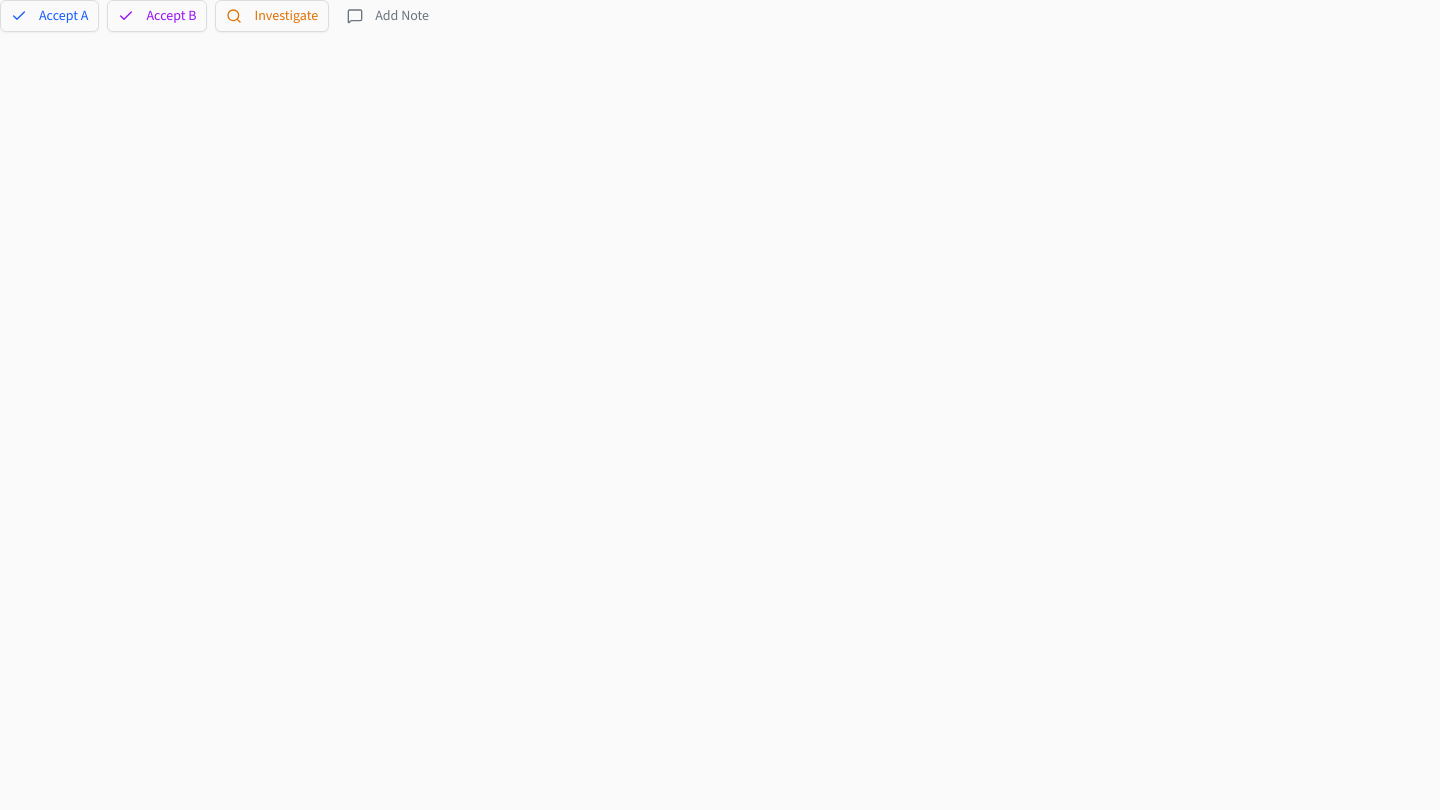
Scenario: ContradictionActions › Investigate Action (AC6) › closes dialog after successful submission
The image size is (1440, 810).
Open dialog
Click the button with aria-label "mark for investigation".
click(272, 16)  # box top-left (216, 0), bottom-right (329, 32)
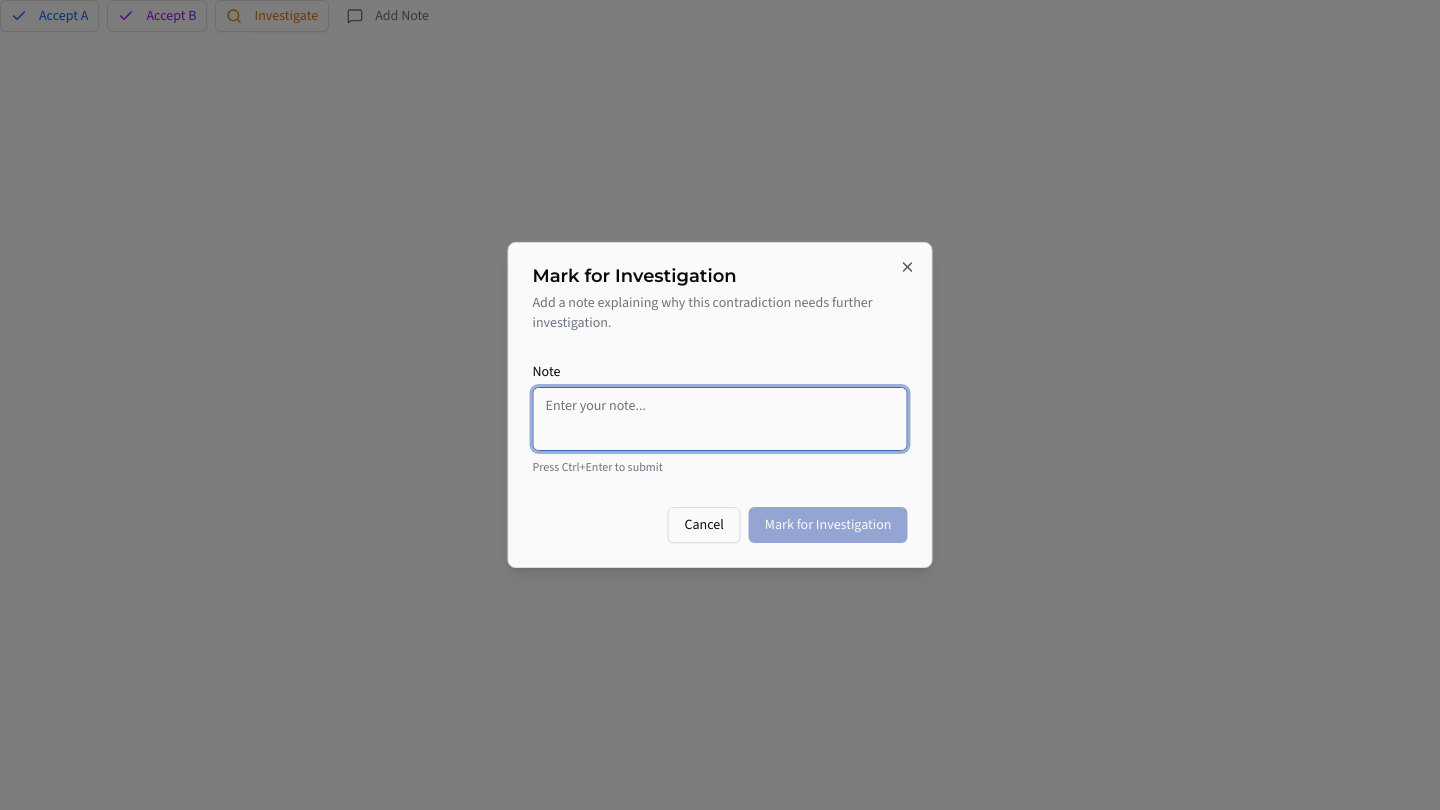
Type note and submit
Type "Test note" into the text box with placeholder "Enter your note...".
click(720, 419); type("Test note")  # box top-left (532, 387), bottom-right (908, 451)
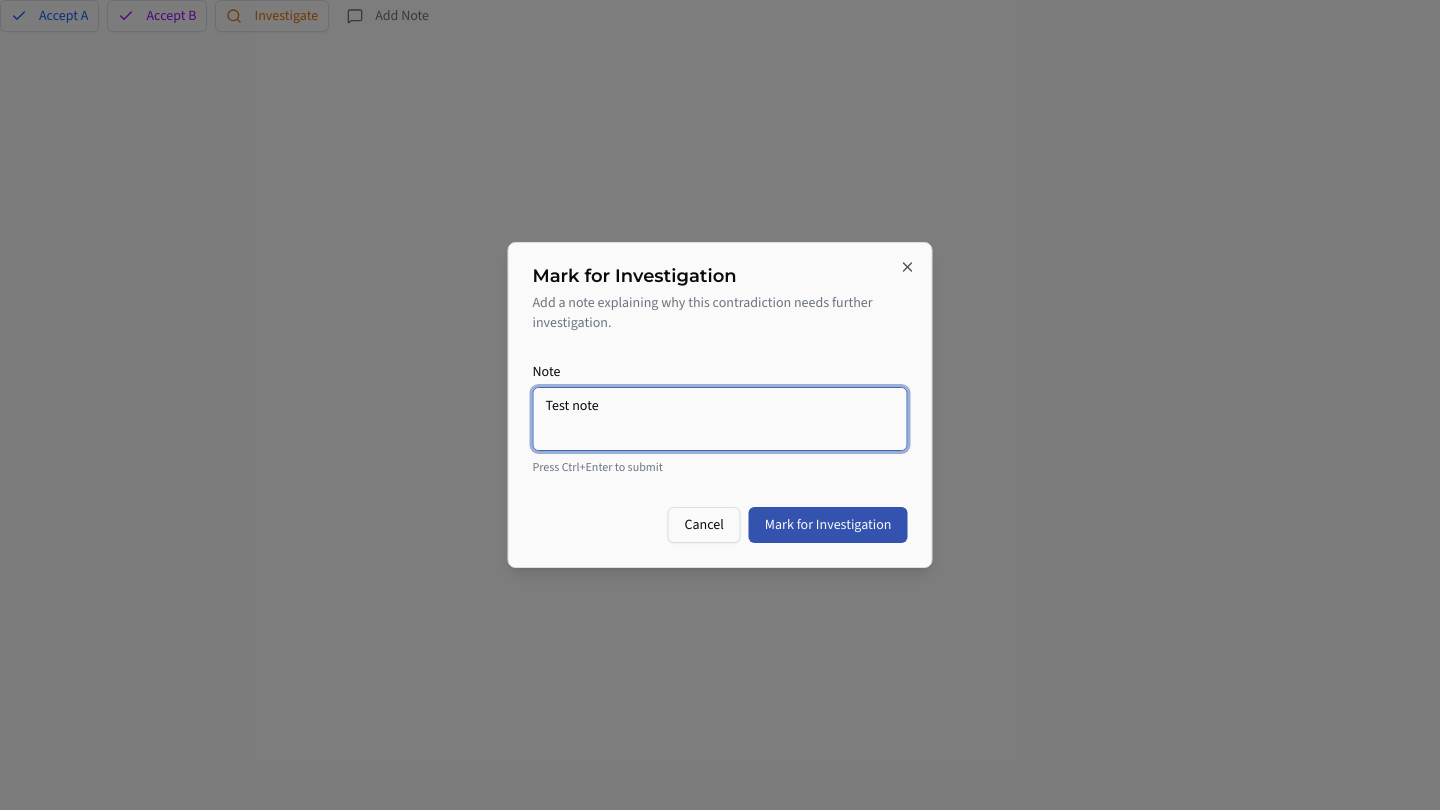
Click the button "Mark for Investigation".
click(828, 525)  # box top-left (749, 507), bottom-right (908, 543)
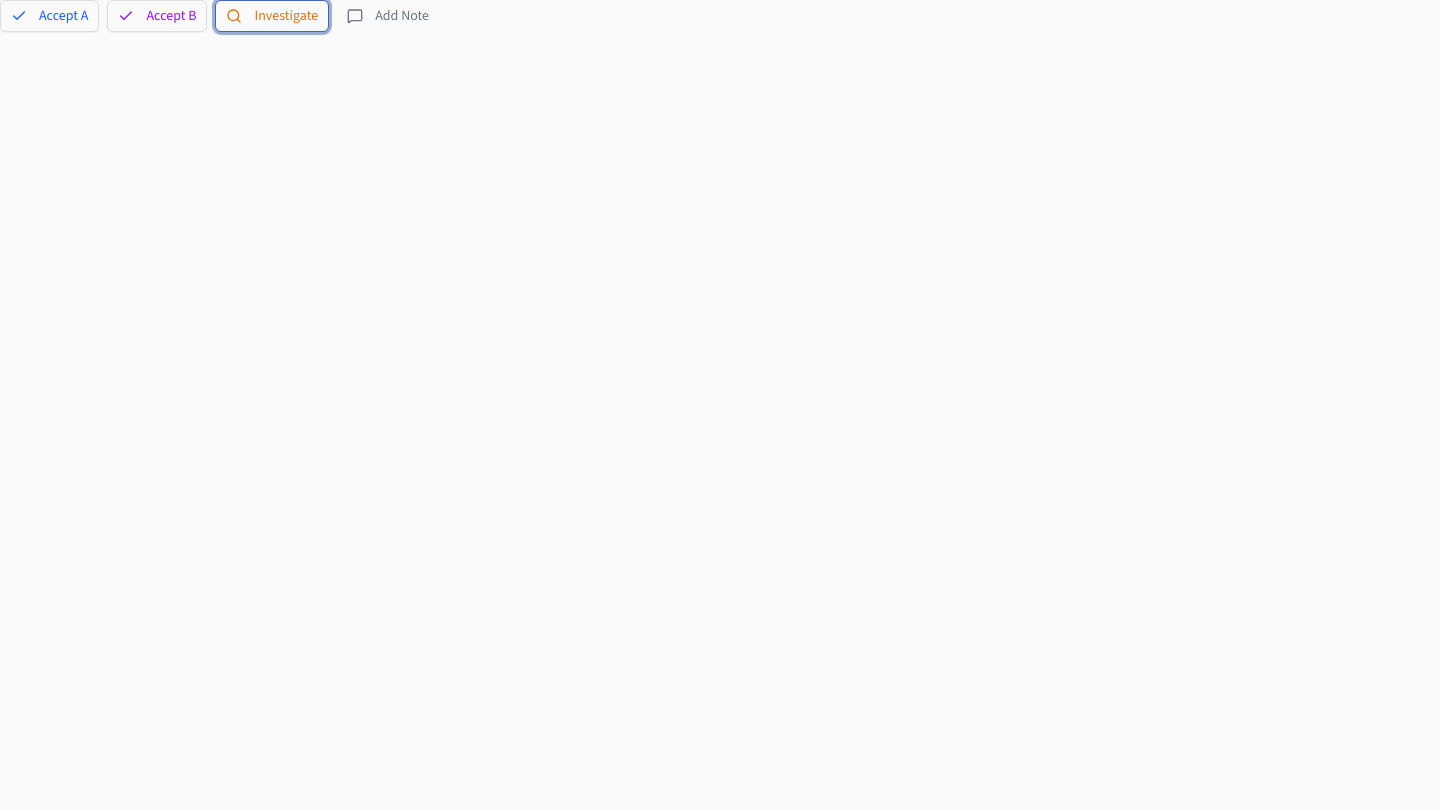
Now the dialog is gone
